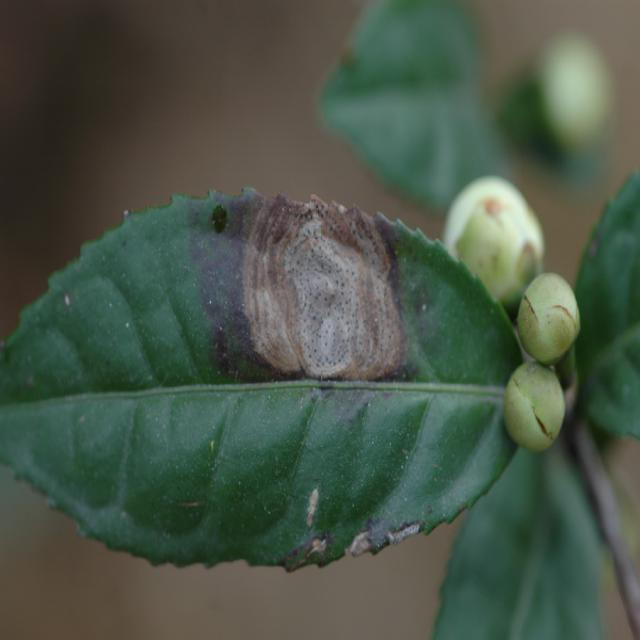Tea cloud leaf blight: (210, 185, 411, 383)
